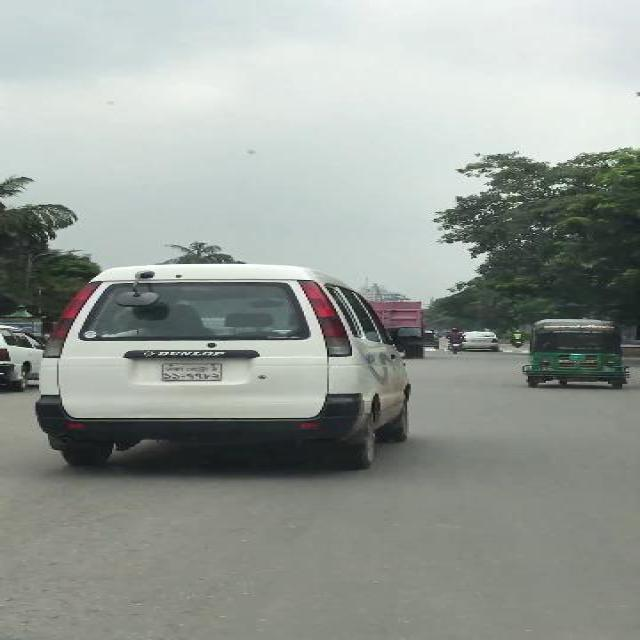car: (0, 322, 41, 392), (464, 331, 500, 351), (422, 329, 438, 348)
motorcycle: (521, 315, 631, 390), (443, 326, 464, 353), (508, 329, 522, 348)
truck: (38, 261, 364, 470), (368, 299, 425, 330)
